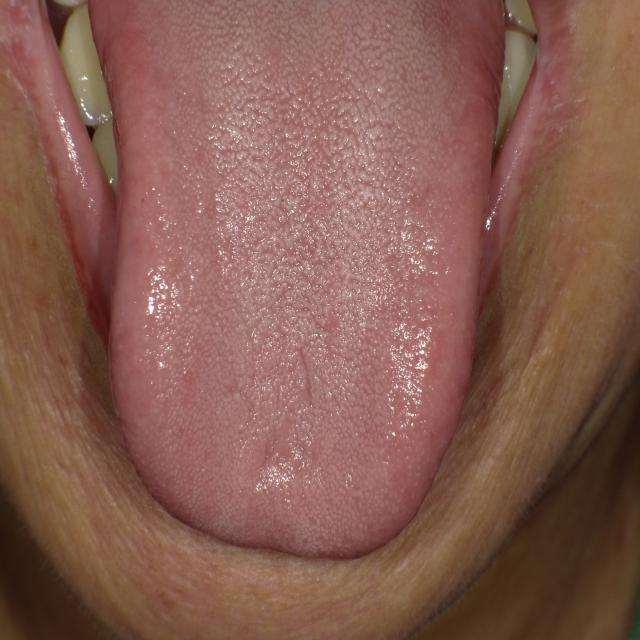baitaishe: (87, 1, 504, 558)
